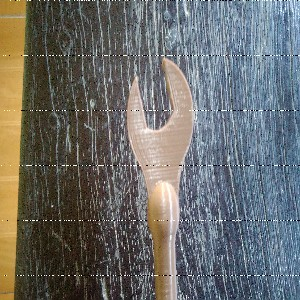spanner: (125, 57, 196, 300)
